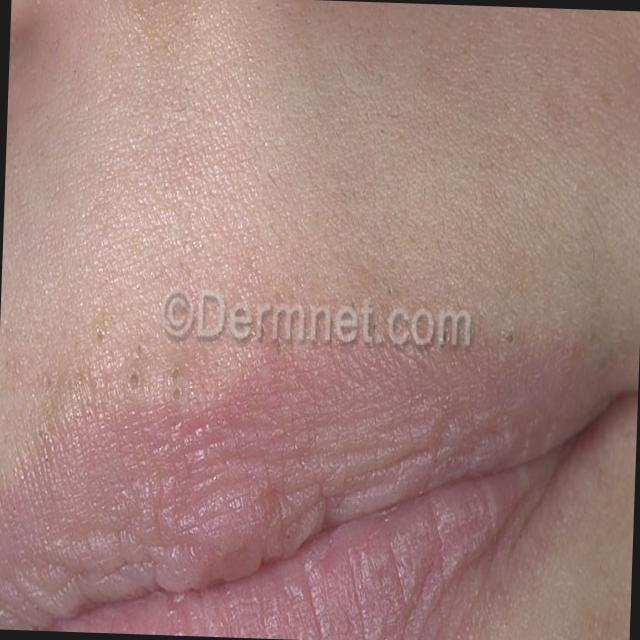blackhead: (255, 325, 264, 341), (173, 388, 180, 400), (172, 370, 178, 382), (275, 342, 280, 354), (136, 346, 142, 356), (507, 333, 513, 342), (131, 374, 136, 384), (98, 333, 104, 340), (38, 428, 42, 438), (380, 129, 383, 132), (388, 288, 390, 292), (185, 86, 187, 90), (258, 6, 260, 10), (276, 3, 278, 6), (194, 18, 196, 20), (74, 70, 76, 72)
